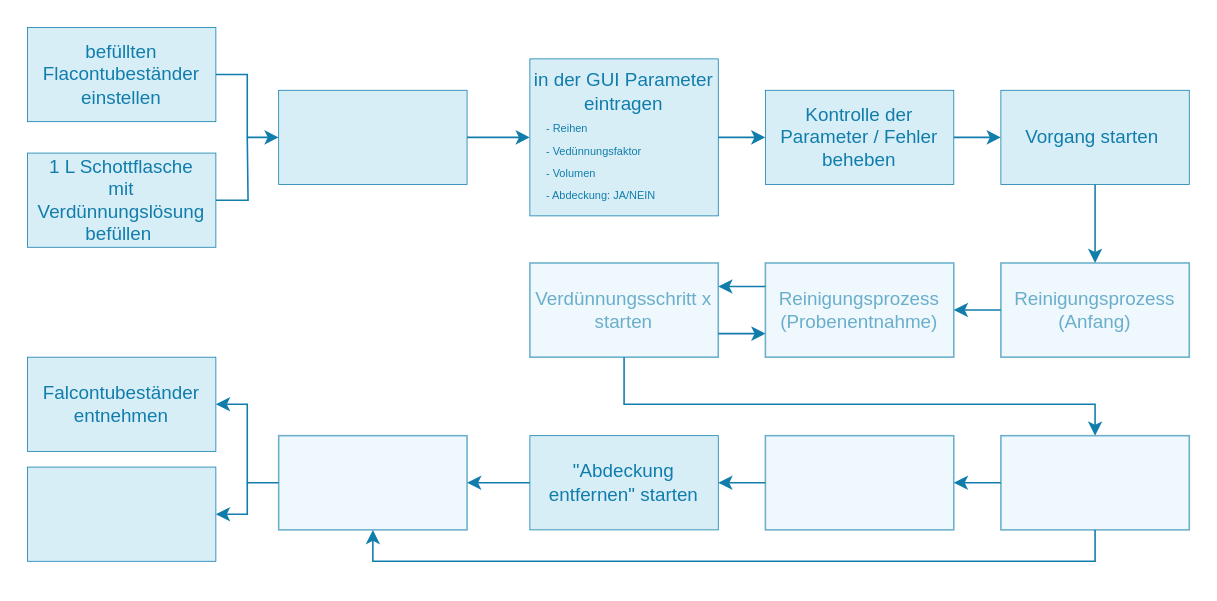
This 1217x601 diagram has some shape labels left out. Here are the shapes that lost their labels. From the top down, the centre of each, then its label:
point 372,136: GUI öffnen
point 372,482: Ganz nach hinten fahren
point 859,482: Abdecken
point 1094,482: Verdünnungsvorgang beendet
point 121,513: Abfall- und Reinigungsbehälter leeren
